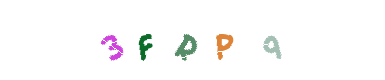3: (73, 0, 153, 80)
9: (204, 0, 284, 80)
F: (128, 0, 208, 80)
P: (183, 0, 263, 80)
R: (152, 0, 232, 80)
